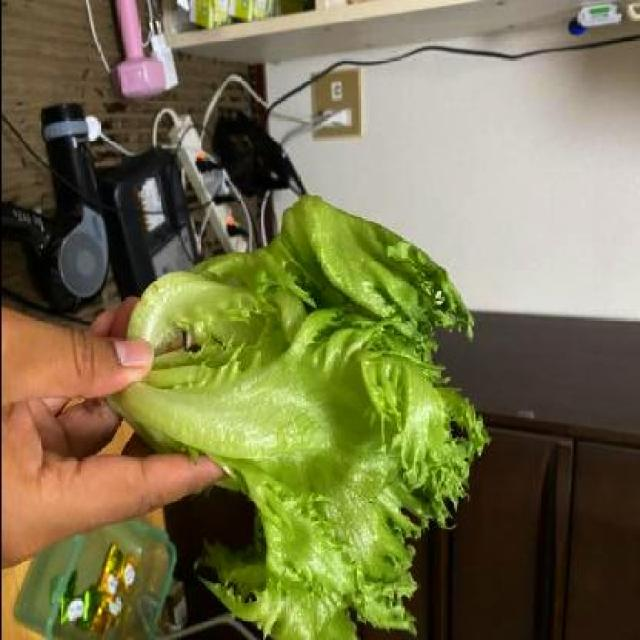Lettuce: (118, 193, 489, 640)
